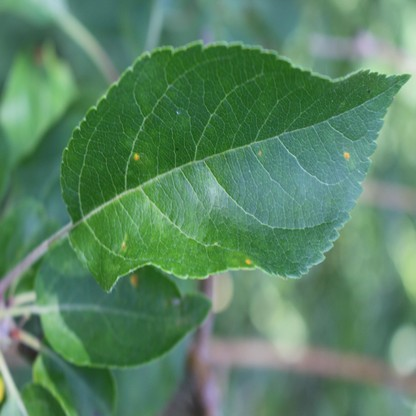rust: (129, 274, 137, 285), (345, 150, 350, 159), (121, 241, 126, 249), (246, 259, 251, 266), (134, 154, 138, 161)
